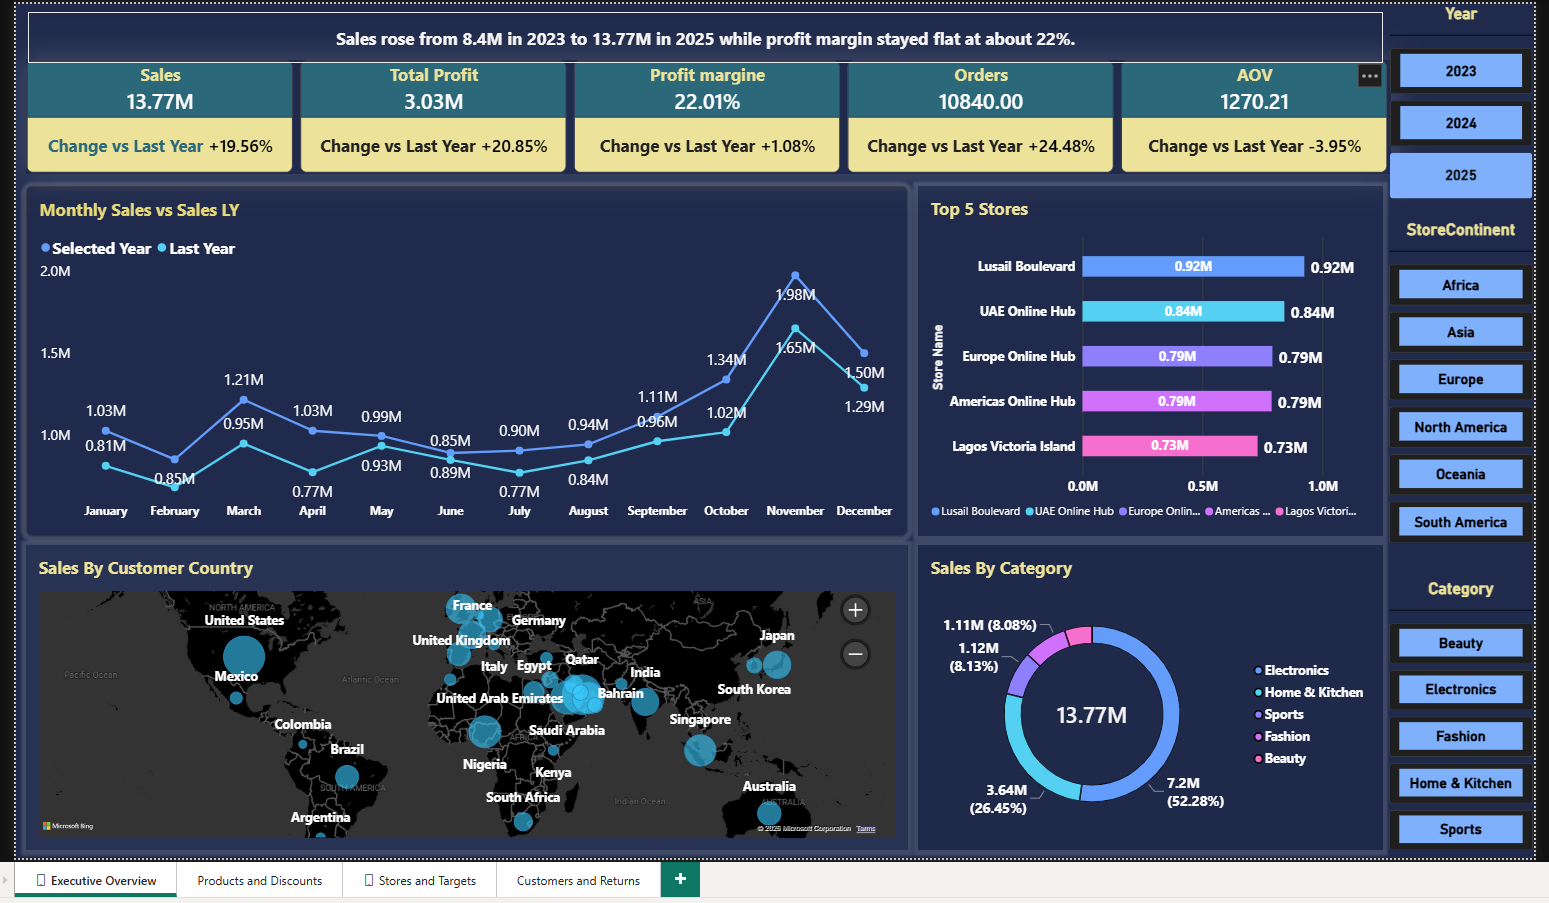

This screenshot's page, from the dashboard's own definition file:
{"tool":"powerbi","page":{"name":"Executive Overview","canvas":[1920,1080],"ordinal":0},"visuals":[{"type":"cardVisual","fields":{"Data":["Sum(Sales.SalesAmount)","Sales.Total Profit","Sales.Profit margine","Sales.Orders","Sales.AOV"]},"box":[12.1,71.2,1726.1,143.7],"z":0},{"type":"advancedSlicerVisual","fields":{"Values":["DateTable.Date.Variation.Date Hierarchy.Year"]},"box":[1737.8,0,180.7,245.9],"z":1000},{"type":"lineChart","title":"Monthly Sales vs Sales LY","fields":{"Category":["DateTable.Date.Variation.Date Hierarchy.Month"],"Y":["Sales.Total Sales","DateTable.LAST_YEAR_SALE"]},"box":[12.1,229.7,1114.9,443.3],"z":2000},{"type":"map","title":"Sales By Customer Country","fields":{"Category":["Customers.CustomerCountry"],"Size":["Sales.Total Sales"]},"box":[12.1,683.7,1114.9,385.5],"z":3000},{"type":"donutChart","title":"Sales By Category","fields":{"Category":["Products.Category"],"Y":["Sales.Total Sales"]},"box":[1140.4,683.7,588.4,385.5],"z":4000},{"type":"barChart","title":" Top 5 Stores","fields":{"Category":["Stores.StoreName"],"Series":["Stores.StoreName"],"Y":["Sales.Total Sales"]},"box":[1140.4,229.7,588.4,441.9],"z":5000},{"type":"advancedSlicerVisual","fields":{"Values":["Stores.StoreContinent"]},"box":[1736.3,272.6,182.2,411.9],"z":6000},{"type":"advancedSlicerVisual","fields":{"Values":["Products.Category"]},"box":[1736.3,727.4,182.2,342.2],"z":7000},{"type":"textbox","box":[14.8,10.7,1714,64.5],"z":8000}]}

Visuals, with their boxes on the page's 1920x1080 design canvas (x1, y1, x2, y2). These are canvas units, not pixel positions in the 1549x903 screenshot, which may show the page scaled, cropped or inside an application window:
cardVisual - Sum(Sales.SalesAmount) x Sales.Total Profit: {"x1": 12, "y1": 71, "x2": 1738, "y2": 215}
advancedSlicerVisual - DateTable.Date.Variation.Date Hierarchy.Year: {"x1": 1738, "y1": 0, "x2": 1918, "y2": 246}
"Monthly Sales vs Sales LY" lineChart: {"x1": 12, "y1": 230, "x2": 1127, "y2": 673}
"Sales By Customer Country" map: {"x1": 12, "y1": 684, "x2": 1127, "y2": 1069}
"Sales By Category" donutChart: {"x1": 1140, "y1": 684, "x2": 1729, "y2": 1069}
" Top 5 Stores" barChart: {"x1": 1140, "y1": 230, "x2": 1729, "y2": 672}
advancedSlicerVisual - Stores.StoreContinent: {"x1": 1736, "y1": 273, "x2": 1918, "y2": 684}
advancedSlicerVisual - Products.Category: {"x1": 1736, "y1": 727, "x2": 1918, "y2": 1070}
textbox: {"x1": 15, "y1": 11, "x2": 1729, "y2": 75}
